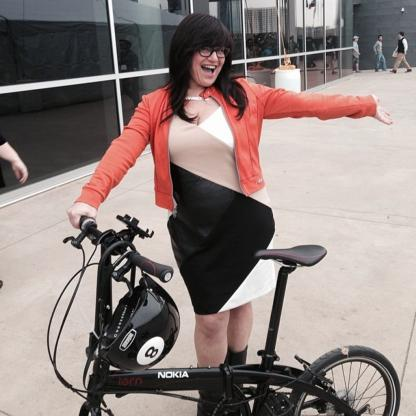Helmet: (96, 252, 184, 372)
